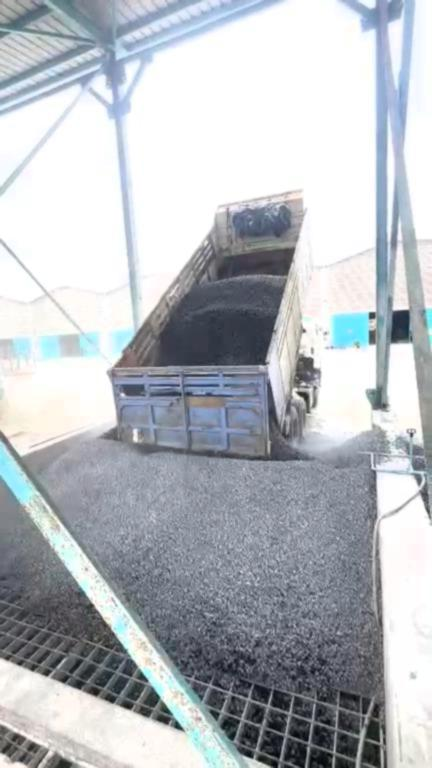gravel: (38, 411, 390, 694), (1, 481, 111, 642), (157, 274, 285, 366), (411, 440, 432, 520)
sand: (1, 398, 89, 454)
